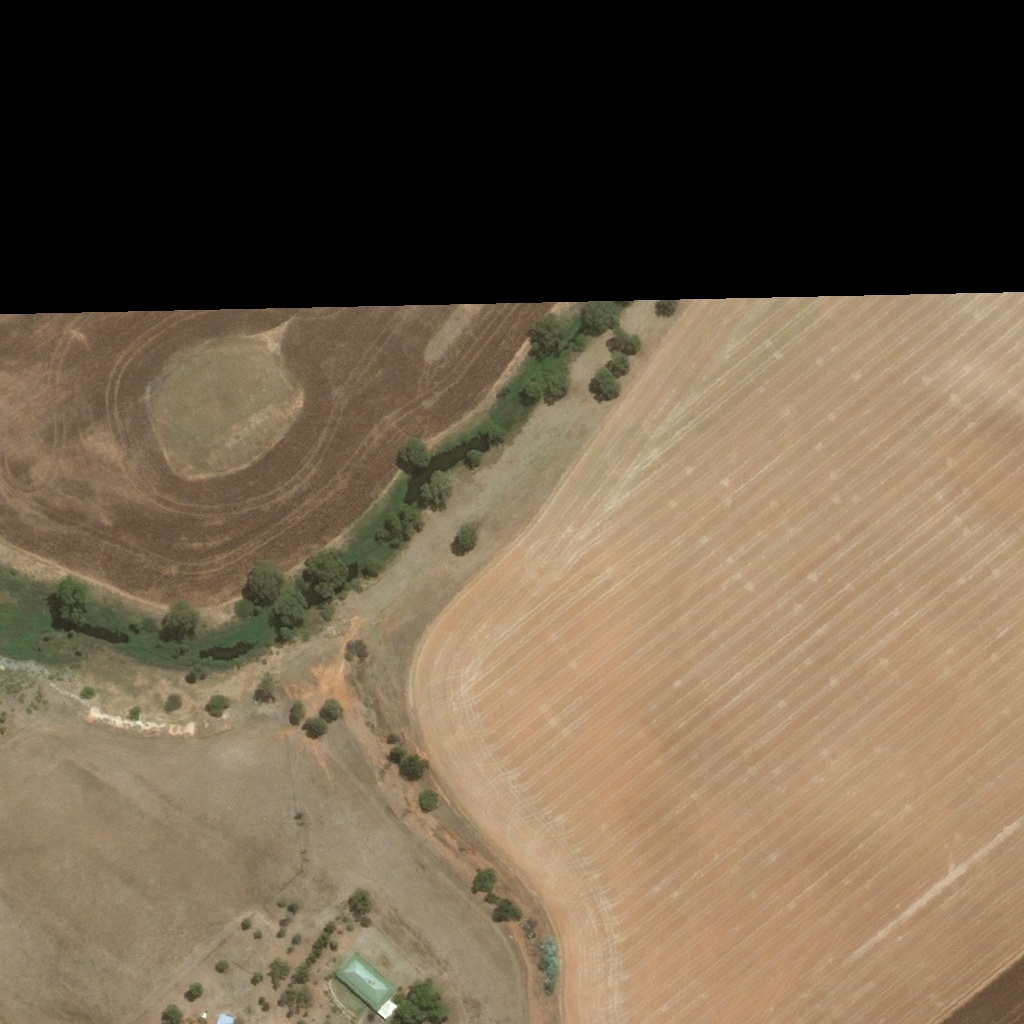0 no-damage: (330, 945, 398, 1018), (214, 1010, 236, 1023), (198, 1009, 207, 1017)
